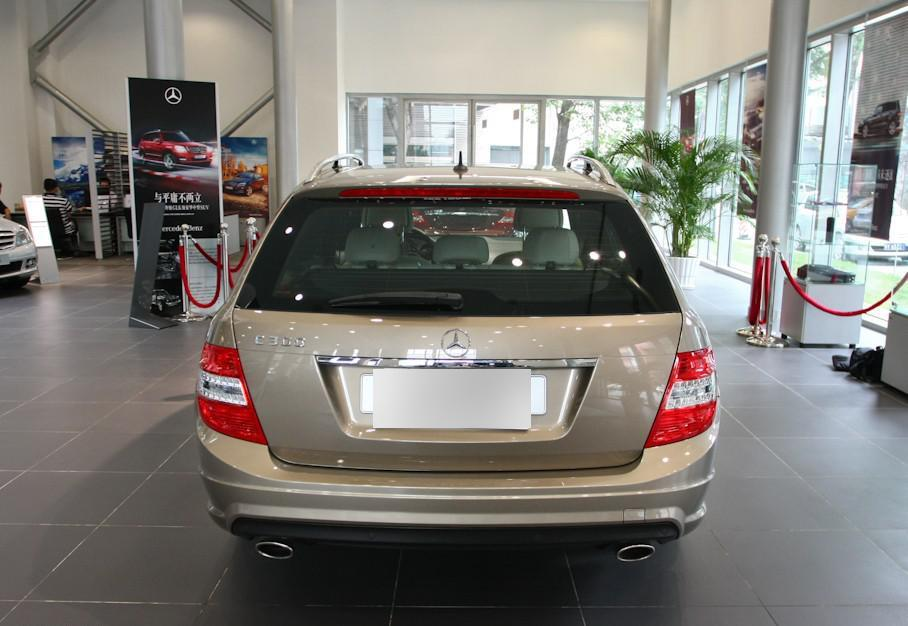Wagon: (196, 166, 720, 564)
